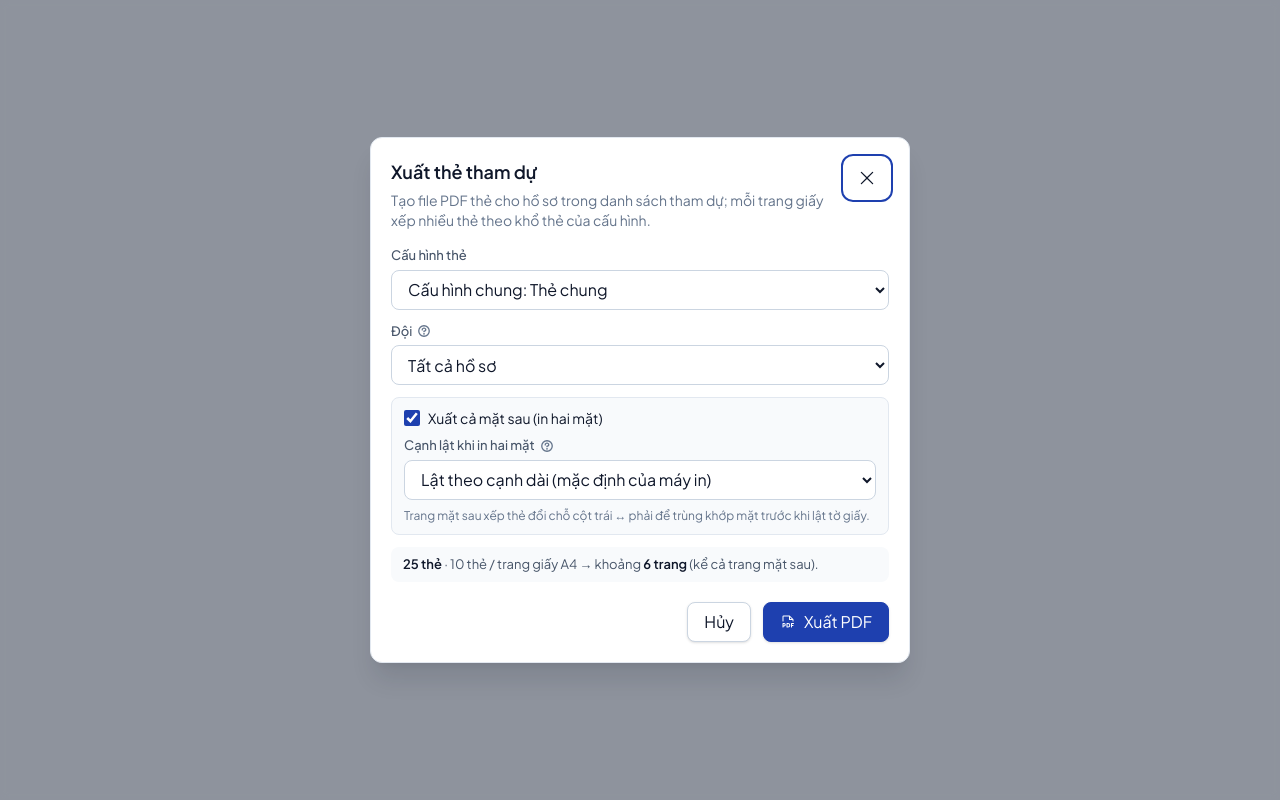
Test: BadgeExportDialog › offers the flip edge only for two-sided configurations
Step 1. Select "Lật theo cạnh ngắn" in the dropdown labelled "Cạnh lật khi in hai mặt" → (640, 480), box [404,460,876,500]
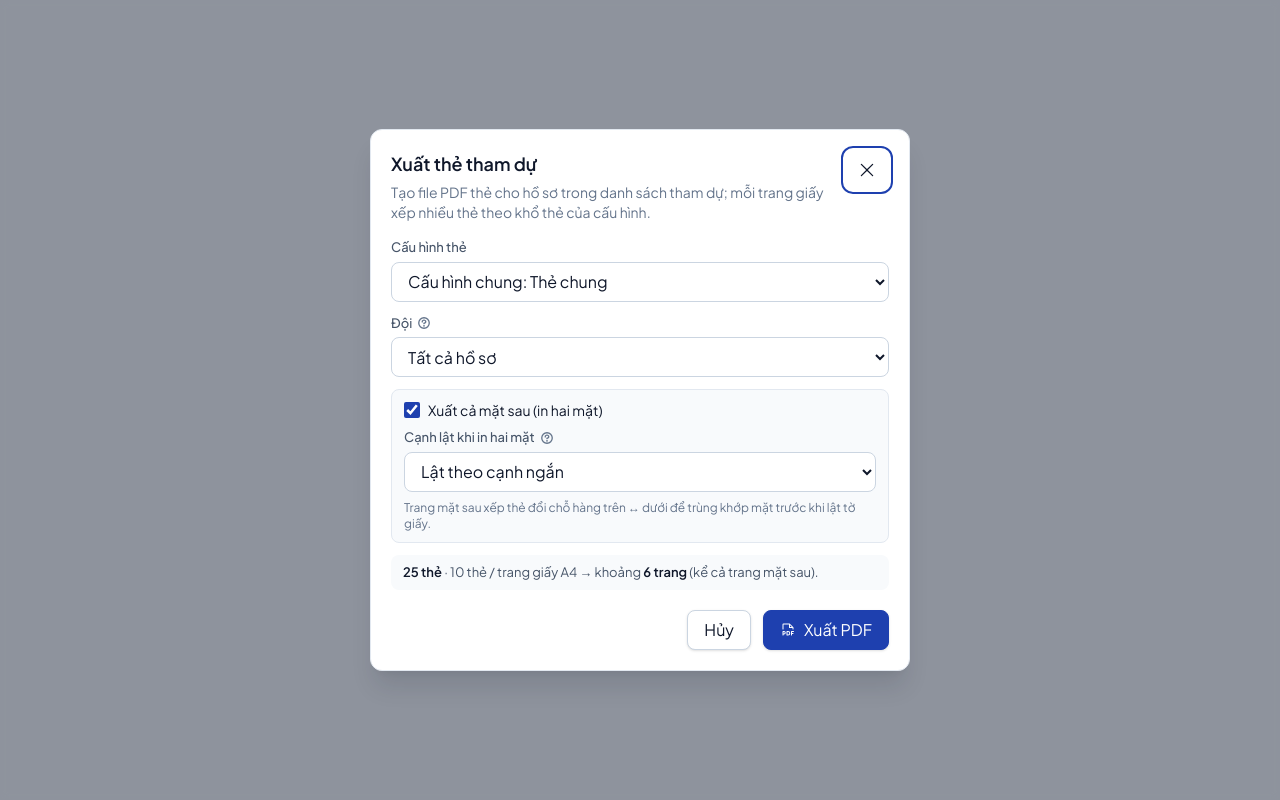
Now the text "hàng trên ↔ dưới" is shown, box [528,500,668,514]
Step 2. Select "Thẻ một mặt · Giáo phận · 100×70 mm" in the dropdown labelled "Cấu hình thẻ" → (640, 282), box [391,262,889,302]
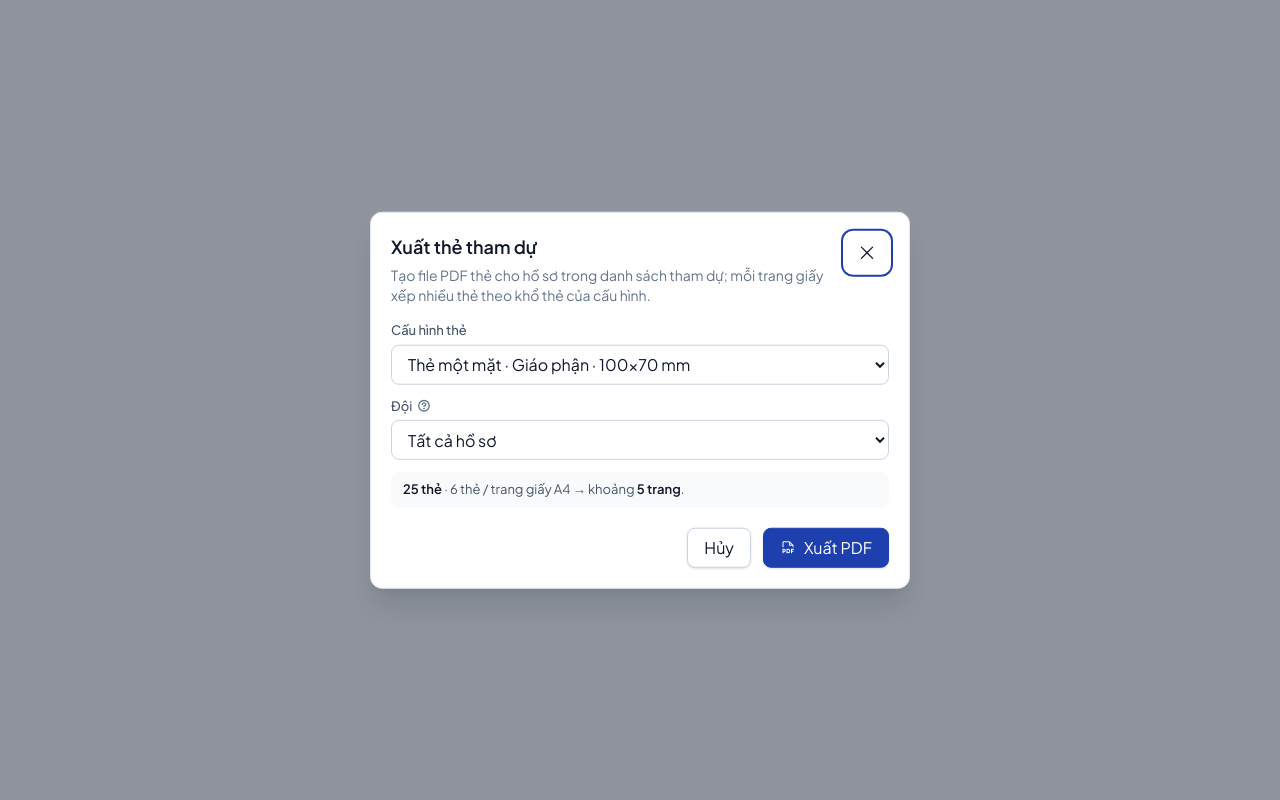
Now the label labelled "Cạnh lật khi in hai mặt" is gone
Now the label labelled "Xuất cả mặt sau" is gone
